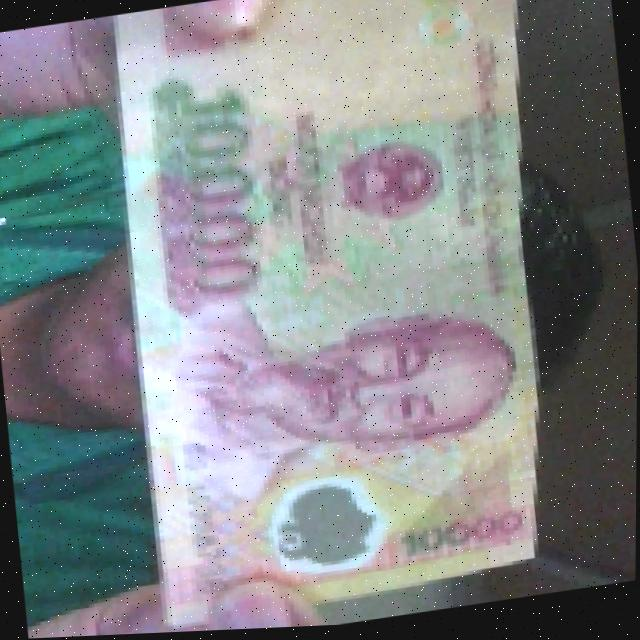10 000 VND: (99, 0, 585, 636)
